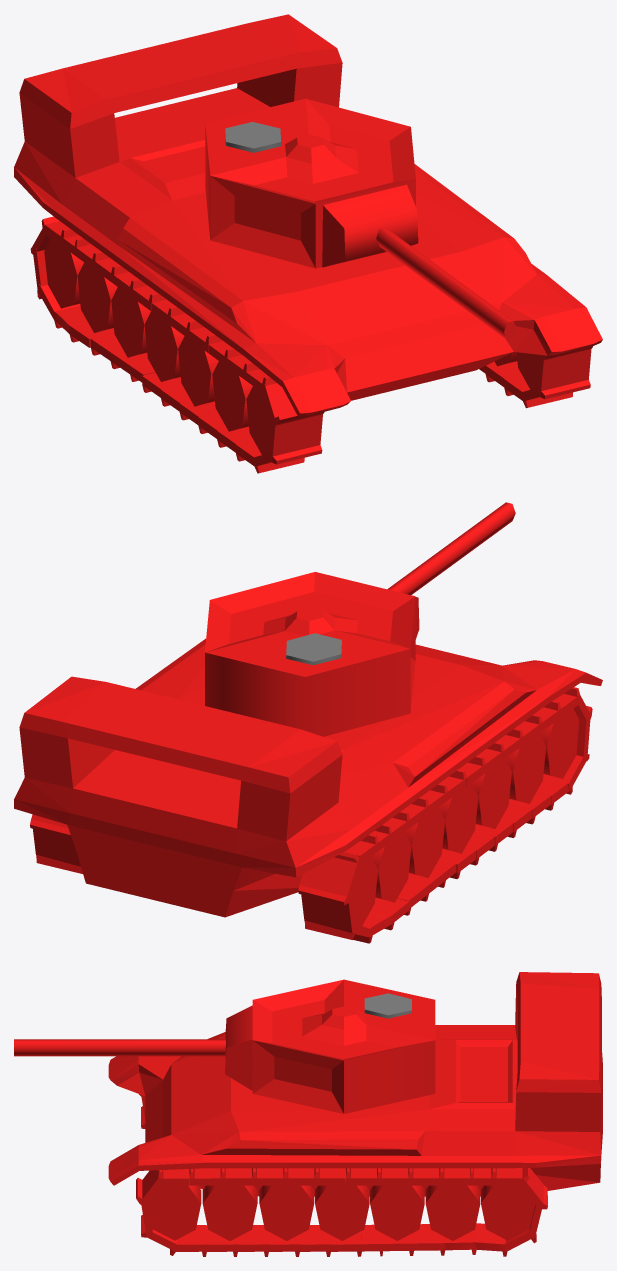
Rendered from Tank Var.fbx.
3 views of the same model, one above another, from view 1: azimuth 30°, elevation 25°; view 2: azimuth 150°, elevation 25°; view 3: azimuth 270°, elevation 25° (orthographic). The views are drawn at different scales.
Visible parts, largest first — view 1: Chasis, Cylinder041, Cylinder039, Cylinder028, Cylinder027, Box097, Box076, Cylinder038, Cylinder037, Cylinder035, Cylinder036, Box096 (+1 smaller); view 2: Chasis, Cylinder041, Cylinder039, Cylinder027, Cylinder037, Cylinder038, Box107, Cylinder036, Box095, Box086, Cylinder035, Box105; view 3: Chasis, Cylinder041, Track2, Cylinder032, Cylinder027, Cylinder030, Cylinder031, Cylinder029, Cylinder028, Cylinder035, Box080, Box082 (+14 smaller).
Part boxes in pixels (bbox=[...]): Chasis: bbox=[14, 14, 602, 416]; Cylinder041: bbox=[205, 98, 415, 268]; Cylinder039: bbox=[44, 235, 184, 382]; Cylinder028: bbox=[322, 184, 418, 267]; Cylinder027: bbox=[376, 227, 516, 339]; Box097: bbox=[268, 414, 322, 464]; Box076: bbox=[536, 349, 591, 398]; Cylinder038: bbox=[178, 336, 218, 406]; Cylinder037: bbox=[212, 361, 252, 431]; Cylinder035: bbox=[225, 122, 281, 152]; Cylinder036: bbox=[246, 386, 271, 454]; Box096: bbox=[262, 383, 324, 425]; Chasis: bbox=[14, 638, 602, 917]; Cylinder041: bbox=[205, 572, 415, 736]; Cylinder039: bbox=[352, 769, 478, 930]; Cylinder027: bbox=[387, 502, 515, 594]; Cylinder037: bbox=[505, 733, 545, 803]; Cylinder038: bbox=[472, 759, 511, 828]; Box107: bbox=[298, 885, 355, 932]; Cylinder036: bbox=[539, 708, 579, 778]; Box095: bbox=[299, 852, 361, 896]; Box086: bbox=[30, 819, 80, 866]; Cylinder035: bbox=[286, 633, 341, 665]; Box105: bbox=[353, 910, 391, 943]; Chasis: bbox=[108, 972, 602, 1196]; Cylinder041: bbox=[252, 979, 435, 1113]; Track2: bbox=[315, 1169, 480, 1240]; Cylinder032: bbox=[346, 1168, 535, 1256]; Cylinder027: bbox=[14, 1039, 225, 1056]; Cylinder030: bbox=[202, 1185, 257, 1240]; Cylinder031: bbox=[259, 1185, 314, 1240]; Cylinder029: bbox=[148, 1174, 201, 1240]; Cylinder028: bbox=[225, 1005, 252, 1090]; Cylinder035: bbox=[364, 993, 411, 1018]; Box080: bbox=[237, 1225, 268, 1256]; Box082: bbox=[299, 1225, 330, 1256].
Size of the model in its own units: 65.07 by 42.59 by 125.
